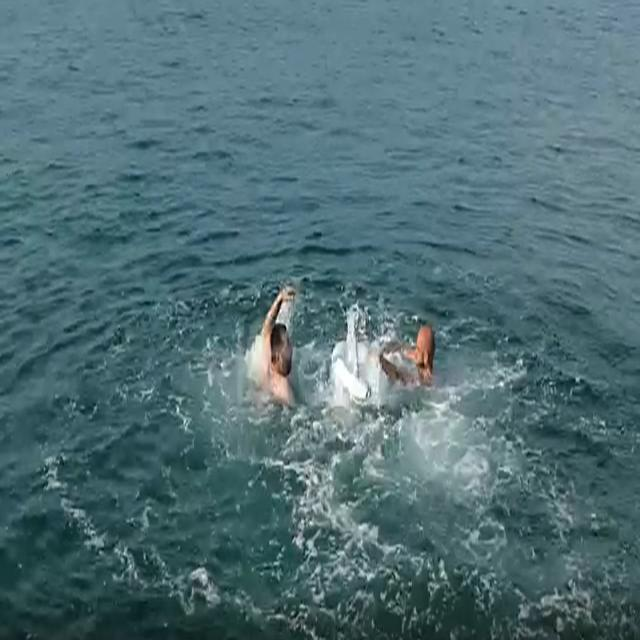Out of Water: (374, 313, 437, 395)
drowning: (253, 276, 305, 415)
